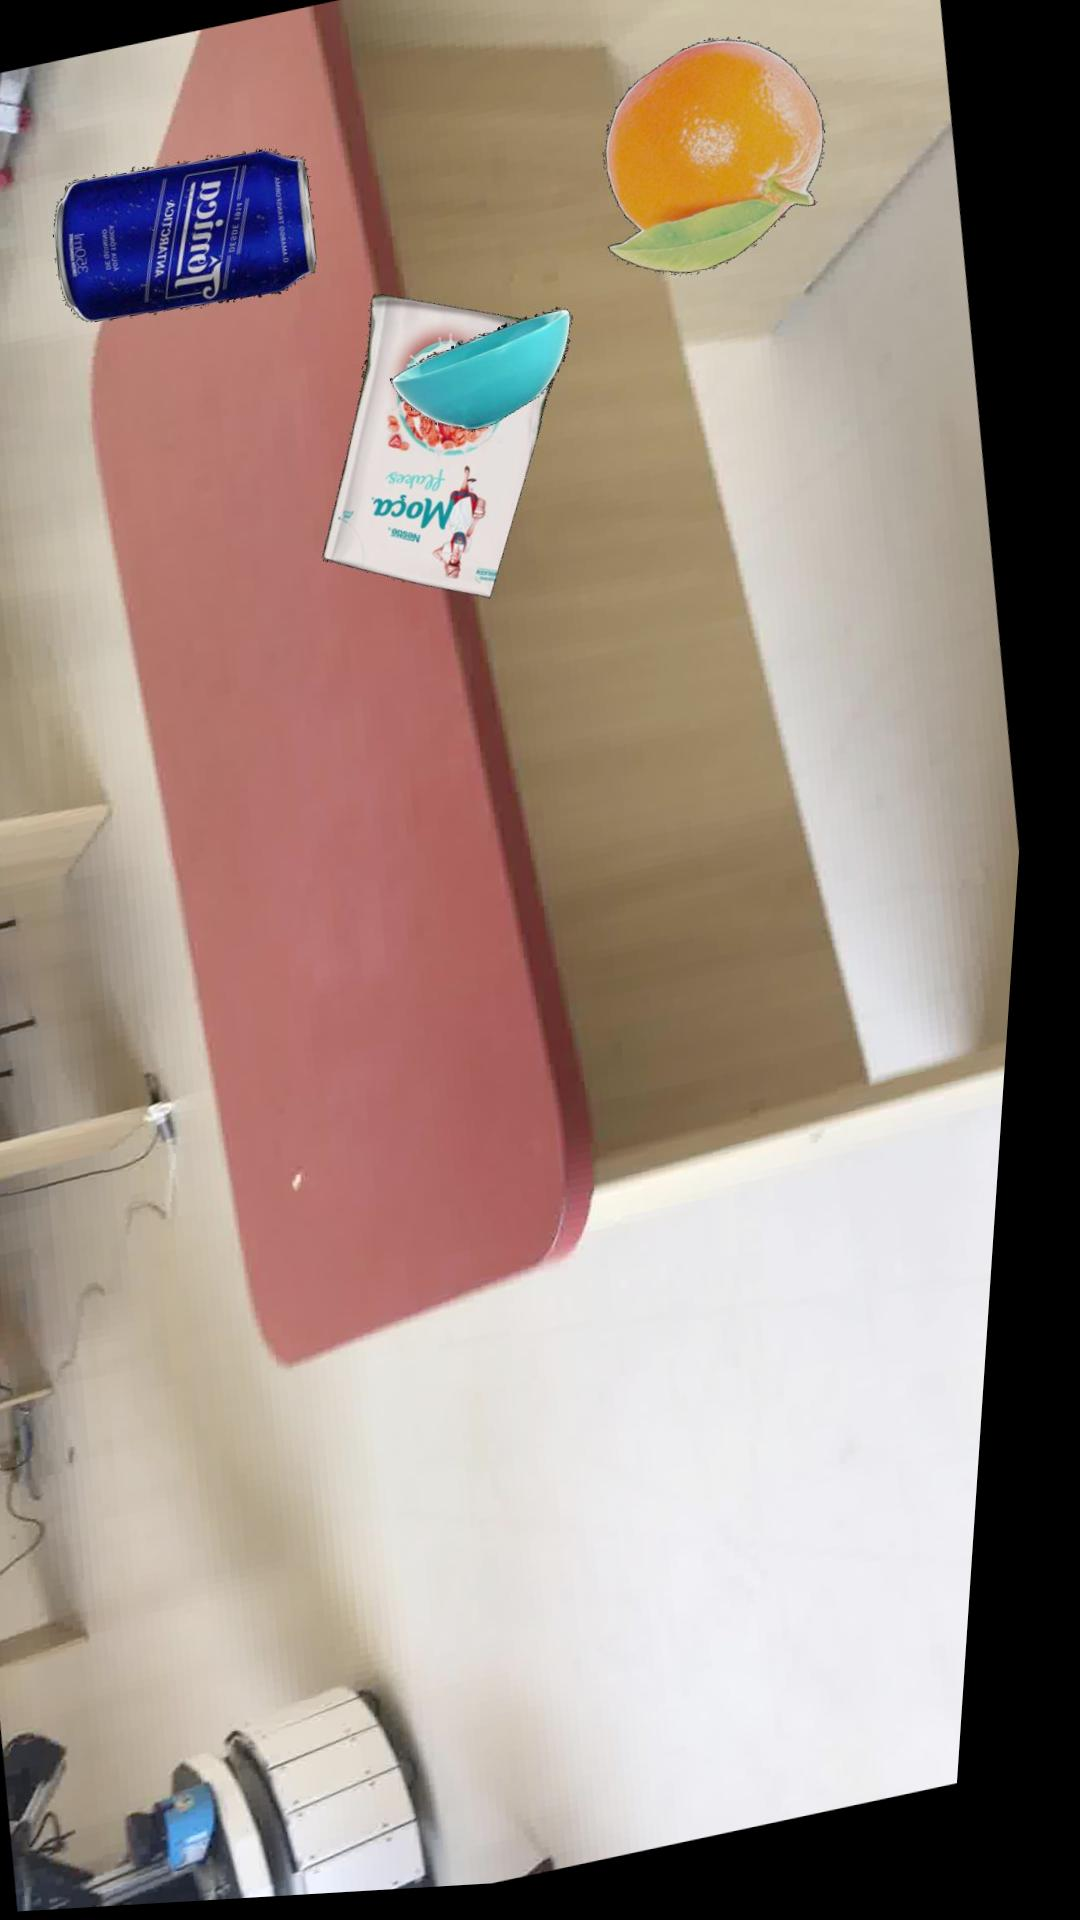bowl: (397, 316, 578, 439)
corn flakes: (332, 301, 559, 605)
orange: (609, 47, 828, 284)
tonic: (58, 153, 322, 324)
